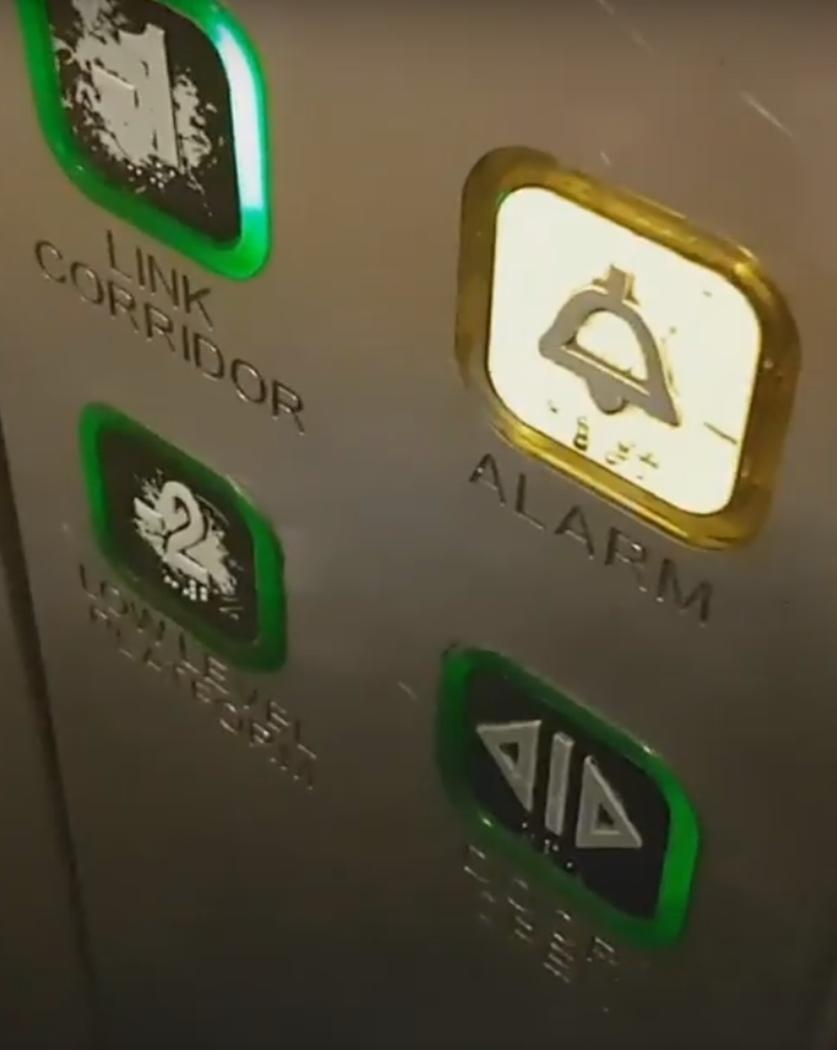-1: (13, 1, 270, 284)
2: (76, 401, 287, 681)
alarm: (451, 148, 803, 558)
open: (438, 637, 699, 964)
